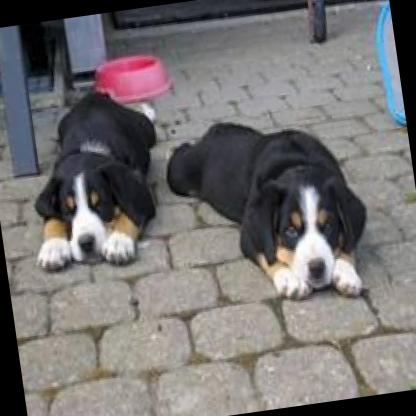EntleBucher: (160, 92, 378, 308), (12, 81, 174, 275)
